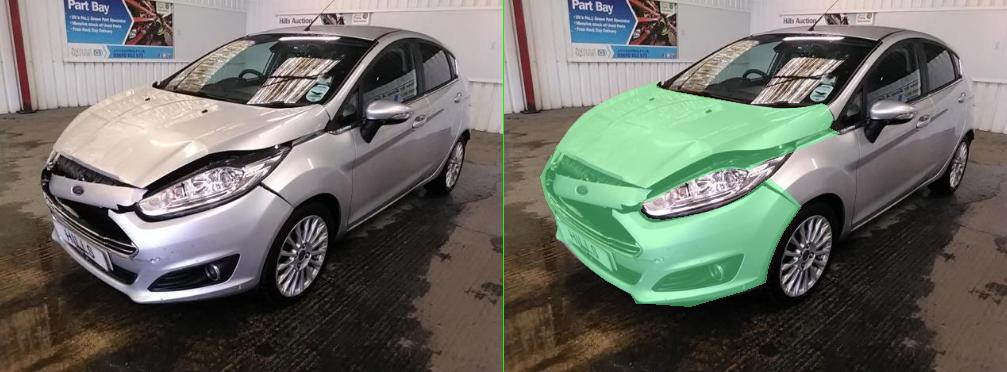Broken part: (72, 155, 595, 306), (92, 81, 671, 201)
Dent: (226, 142, 384, 182)
Scratch: (300, 257, 320, 263)
